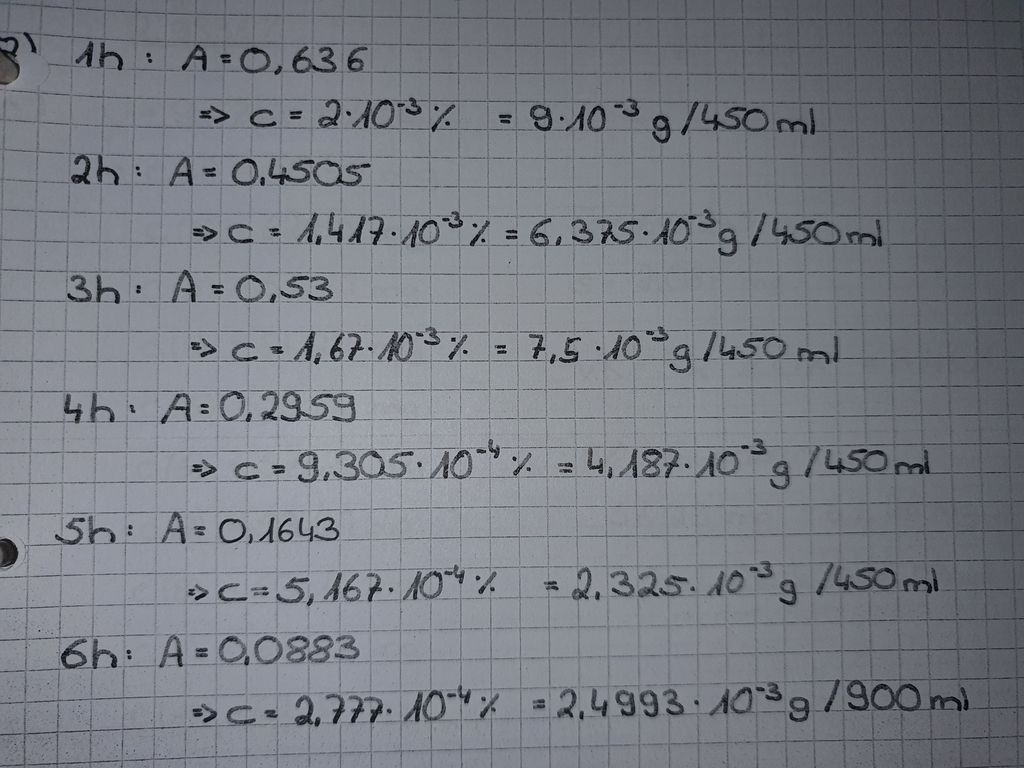equals: (546, 450, 581, 480), (492, 103, 519, 134), (259, 698, 286, 729), (199, 157, 227, 186), (246, 576, 272, 604), (265, 450, 290, 479), (541, 574, 569, 599), (260, 219, 289, 243), (284, 101, 310, 127), (500, 221, 525, 247), (206, 276, 232, 301), (526, 690, 551, 714), (489, 337, 513, 361), (262, 337, 288, 358), (214, 44, 236, 68), (195, 398, 216, 420), (192, 641, 210, 665), (189, 519, 209, 539)
equation: (206, 550, 945, 620), (215, 673, 979, 737), (221, 430, 938, 498), (237, 87, 850, 143), (216, 207, 897, 255), (226, 323, 867, 370), (168, 142, 379, 198), (149, 628, 378, 675), (158, 383, 376, 430), (169, 34, 390, 79), (161, 259, 356, 309), (151, 505, 355, 547)
fraction: (555, 669, 973, 728), (527, 206, 894, 263), (588, 432, 932, 488), (524, 321, 849, 380), (573, 558, 939, 609), (527, 96, 835, 141)
term: (292, 435, 538, 489), (292, 676, 506, 731), (276, 559, 507, 609), (296, 209, 496, 249), (294, 326, 475, 364), (311, 94, 462, 134), (218, 386, 358, 425), (229, 154, 371, 191), (216, 633, 362, 668), (241, 40, 375, 74), (216, 511, 341, 546), (234, 267, 340, 306), (166, 151, 200, 193), (155, 632, 188, 670), (157, 510, 191, 546), (179, 42, 214, 75), (213, 569, 246, 604), (168, 267, 200, 303), (163, 390, 194, 424), (245, 101, 280, 131), (226, 215, 256, 248), (231, 329, 259, 364), (231, 451, 260, 483), (226, 700, 255, 731)
